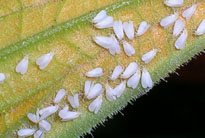whitefly: (159, 10, 180, 30), (35, 52, 56, 71), (91, 35, 114, 51), (88, 93, 104, 115), (87, 82, 105, 101), (174, 28, 189, 50), (182, 2, 199, 21), (15, 55, 30, 76), (126, 69, 141, 90), (112, 20, 126, 42), (142, 47, 159, 64), (140, 67, 153, 89), (134, 21, 150, 38), (172, 19, 186, 38), (121, 39, 135, 57), (94, 17, 113, 30), (26, 109, 41, 125), (67, 92, 80, 109), (84, 67, 104, 78), (16, 127, 36, 138), (123, 20, 134, 40), (114, 82, 126, 97)
